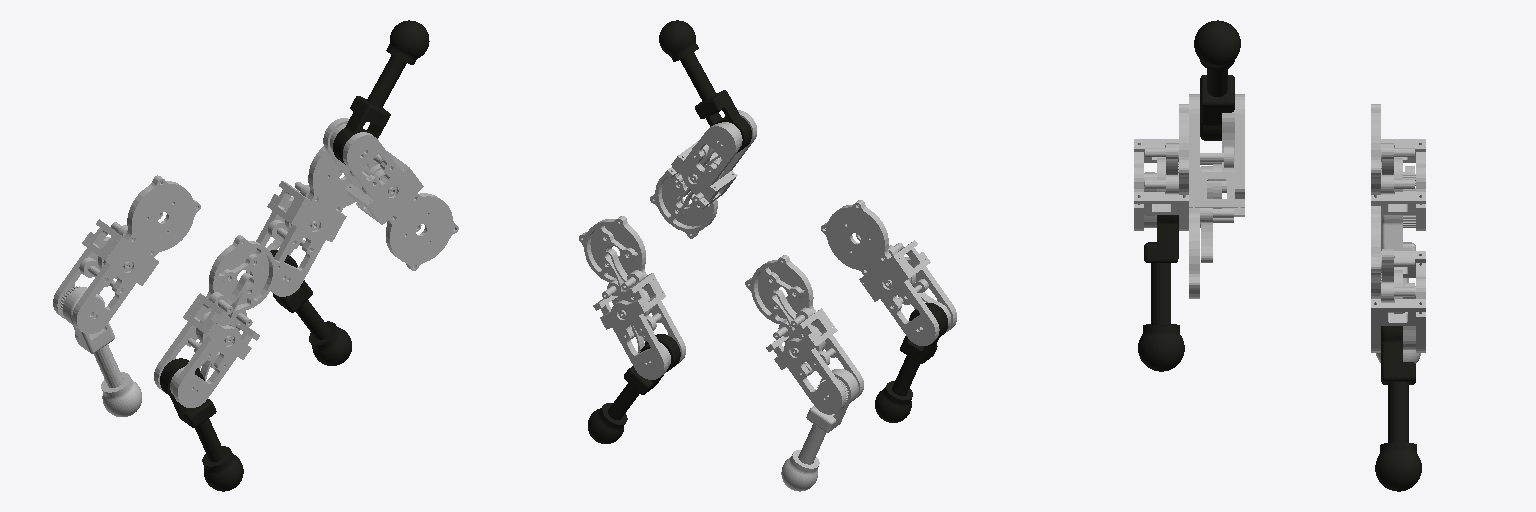
robot.urdf — TOPS CAD Assembly:
<?xml version="1.0"?>
<robot
  name="TOPS CAD Assembly">

  <link
    name="base_link">
  </link>

  <link
    name="chassis_link">
    <inertial>
      <origin
        xyz="-0.00674549715847858 0.000296696547606025 0.0118055648692431"
        rpy="0 0 0" />
      <mass
        value="3.60222879426993" />
      <inertia
        ixx="0.00760437712740927"
        ixy="4.98591013695657E-07"
        ixz="-8.29526818648913E-05"
        iyy="0.00849789665903707"
        iyz="4.94919751383625E-06"
        izz="0.00711099585019066" />
    </inertial>
    <visual>
      <origin
        xyz="0 0 0"
        rpy="0 0 0" />
      <geometry>
        <mesh
          filename="package://SLAP_URDF/meshes/chassis_link.STL" />
      </geometry>
      <material
        name="">
        <color
          rgba="0.749019607843137 0.749019607843137 0.749019607843137 1" />
      </material>
    </visual>
    <collision>
      <origin
        xyz="0 0 0"
        rpy="0 0 0" />
      <geometry>
        <mesh
          filename="package://SLAP_URDF/meshes/chassis_link.STL" />
      </geometry>
    </collision>
  </link>

  <joint
    name="chassis_joint"
    type="fixed">
    <origin
      xyz="0 0 0" />
    <parent
      link="base_link" />
    <child
      link="chassis_link" />
  </joint>

  <link
    name="FL_HAA">
    <inertial>
      <origin
        xyz="0.0201938080620578 -0.000202781199679098 0.0516999280553676"
        rpy="0 0 0" />
      <mass
        value="0.558028762012573" />
      <inertia
        ixx="0.000868750855220859"
        ixy="2.71411955514796E-06"
        ixz="4.44157847849211E-06"
        iyy="0.000521076728499913"
        iyz="3.9654407048096E-07"
        izz="0.000479684513061133" />
    </inertial>
    <visual>
      <origin
        xyz="0 0 0"
        rpy="0 0 0" />
      <geometry>
        <mesh
          filename="package://SLAP_URDF/meshes/FL_HAA.STL" />
      </geometry>
      <material
        name="">
        <color
          rgba="0.749019607843137 0.749019607843137 0.749019607843137 1" />
      </material>
    </visual>
    <collision>
      <origin
        xyz="0 0 0"
        rpy="0 0 0" />
      <geometry>
        <mesh
          filename="package://SLAP_URDF/meshes/FL_HAA.STL" />
      </geometry>
    </collision>
  </link>
  <joint
    name="FL_HAA"
    type="continuous">
    <origin
      xyz="0.105 0.055 -0.0027522"
      rpy="1.5708 0 1.5708" />
    <parent
      link="chassis_link" />
    <child
      link="FL_HAA" />
    <axis
      xyz="0 0 -1" />
  </joint>
  <link
    name="FL_HFE">
    <inertial>
      <origin
        xyz="0.0323002141681416 -0.0483873635074022 0.0417838533184272"
        rpy="0 0 0" />
      <mass
        value="0.699541342151953" />
      <inertia
        ixx="0.000662292768335328"
        ixy="0.00017233052878227"
        ixz="-1.69300773093004E-05"
        iyy="0.000517040257502136"
        iyz="2.54959596627936E-05"
        izz="0.00105901664416852" />
    </inertial>
    <visual>
      <origin
        xyz="0 0 0"
        rpy="0 0 0" />
      <geometry>
        <mesh
          filename="package://SLAP_URDF/meshes/FL_HFE.STL" />
      </geometry>
      <material
        name="">
        <color
          rgba="0.749019607843137 0.749019607843137 0.749019607843137 1" />
      </material>
    </visual>
    <collision>
      <origin
        xyz="0 0 0"
        rpy="0 0 0" />
      <geometry>
        <mesh
          filename="package://SLAP_URDF/meshes/FL_HFE.STL" />
      </geometry>
    </collision>
  </link>
  <joint
    name="FL_HFE"
    type="continuous">
    <origin
      xyz="0.0610000000017198 0 0.0570000000001782"
      rpy="0 1.5707963267949 0" />
    <parent
      link="FL_HAA" />
    <child
      link="FL_HFE" />
    <axis
      xyz="0 0 1" />
  </joint>
  <link
    name="FL_KFE">
    <inertial>
      <origin
        xyz="-0.0483283195314868 -0.0728576835275946 -0.0231350489995653"
        rpy="0 0 0" />
      <mass
        value="0.258860763849158" />
      <inertia
        ixx="0.000161084439801444"
        ixy="-4.16534814038773E-05"
        ixz="1.37164645450375E-06"
        iyy="0.000125901435666665"
        iyz="2.06898564608703E-06"
        izz="0.000200160004517402" />
    </inertial>
    <visual>
      <origin
        xyz="0 0 0"
        rpy="0 0 0" />
      <geometry>
        <mesh
          filename="package://SLAP_URDF/meshes/FL_KFE.STL" />
      </geometry>
      <material
        name="">
        <color
          rgba="0.149019607843137 0.152941176470588 0.133333333333333 1" />
      </material>
    </visual>
    <collision>
      <origin
        xyz="0 0 0"
        rpy="0 0 0" />
      <geometry>
        <mesh
          filename="package://SLAP_URDF/meshes/FL_KFE.STL" />
      </geometry>
    </collision>
  </link>
  <joint
    name="FL_KFE"
    type="continuous">
    <origin
      xyz="0.0994987437100913 -0.150000000000391 0.057999999999998"
      rpy="0 0 0" />
    <parent
      link="FL_HFE" />
    <child
      link="FL_KFE" />
    <axis
      xyz="0 0 1" />
  </joint>
  <link
    name="FR_HAA">
    <inertial>
      <origin
        xyz="-0.020193808980872 -0.000114419210248289 0.0547113997889126"
        rpy="0 0 0" />
      <mass
        value="0.558028756397928" />
      <inertia
        ixx="0.000868750856863444"
        ixy="-1.14512072864362E-06"
        ixz="-4.41728118087123E-06"
        iyy="0.000521076705816331"
        iyz="4.01932778696653E-07"
        izz="0.00047968455600824" />
    </inertial>
    <visual>
      <origin
        xyz="0 0 0"
        rpy="0 0 0" />
      <geometry>
        <mesh
          filename="package://SLAP_URDF/meshes/FR_HAA.STL" />
      </geometry>
      <material
        name="">
        <color
          rgba="0.749019607843137 0.749019607843137 0.749019607843137 1" />
      </material>
    </visual>
    <collision>
      <origin
        xyz="0 0 0"
        rpy="0 0 0" />
      <geometry>
        <mesh
          filename="package://SLAP_URDF/meshes/FR_HAA.STL" />
      </geometry>
    </collision>
  </link>
  <joint
    name="FR_HAA"
    type="continuous">
    <origin
      xyz="0.102 -0.055 -0.0027522"
      rpy="1.5708 0 1.5708" />
    <parent
      link="chassis_link" />
    <child
      link="FR_HAA" />
    <axis
      xyz="0 0 -1" />
  </joint>
  <link
    name="FR_HFE">
    <inertial>
      <origin
        xyz="-0.0320173416567354 -0.048575000118241 0.0417838532996047"
        rpy="0 0 0" />
      <mass
        value="0.69954134059435" />
      <inertia
        ixx="0.00066249171610247"
        ixy="-0.000172246549082199"
        ixz="1.69051176993707E-05"
        iyy="0.000516841306750232"
        iyz="2.55125157580018E-05"
        izz="0.00105901664140058" />
    </inertial>
    <visual>
      <origin
        xyz="0 0 0"
        rpy="0 0 0" />
      <geometry>
        <mesh
          filename="package://SLAP_URDF/meshes/FR_HFE.STL" />
      </geometry>
      <material
        name="">
        <color
          rgba="0.749019607843137 0.749019607843137 0.749019607843137 1" />
      </material>
    </visual>
    <collision>
      <origin
        xyz="0 0 0"
        rpy="0 0 0" />
      <geometry>
        <mesh
          filename="package://SLAP_URDF/meshes/FR_HFE.STL" />
      </geometry>
    </collision>
  </link>
  <joint
    name="FR_HFE"
    type="continuous">
    <origin
      xyz="-0.0610000000099869 0 0.0599999999999569"
      rpy="3.14159265358979 -1.5707963267949 0" />
    <parent
      link="FR_HAA" />
    <child
      link="FR_HFE" />
    <axis
      xyz="0 0 -1" />
  </joint>
  <link
    name="FR_KFE">
    <inertial>
      <origin
        xyz="0.0483283200939458 -0.0728576831532276 -0.02313504895965"
        rpy="0 0 0" />
      <mass
        value="0.258860763855111" />
      <inertia
        ixx="0.000161084150513816"
        ixy="4.16532906135806E-05"
        ixz="-1.37167261387802E-06"
        iyy="0.000125901309820202"
        iyz="2.06896818580989E-06"
        izz="0.000200160419628103" />
    </inertial>
    <visual>
      <origin
        xyz="0 0 0"
        rpy="0 0 0" />
      <geometry>
        <mesh
          filename="package://SLAP_URDF/meshes/FR_KFE.STL" />
      </geometry>
      <material
        name="">
        <color
          rgba="0.149019607843137 0.152941176470588 0.133333333333333 1" />
      </material>
    </visual>
    <collision>
      <origin
        xyz="0 0 0"
        rpy="0 0 0" />
      <geometry>
        <mesh
          filename="package://SLAP_URDF/meshes/FR_KFE.STL" />
      </geometry>
    </collision>
  </link>
  <joint
    name="FR_KFE"
    type="continuous">
    <origin
      xyz="-0.0994987437140164 -0.149999999997773 0.0579999999999998"
      rpy="0 0 0" />
    <parent
      link="FR_HFE" />
    <child
      link="FR_KFE" />
    <axis
      xyz="0 0 1" />
  </joint>
  <link
    name="BL_HAA">
    <inertial>
      <origin
        xyz="0.020193809127106 -0.000114419289587693 -0.05571139976583"
        rpy="0 0 0" />
      <mass
        value="0.558028758974316" />
      <inertia
        ixx="0.000868750857443138"
        ixy="1.14512075728258E-06"
        ixz="-4.41728116391802E-06"
        iyy="0.000521076706213277"
        iyz="-4.01932579553485E-07"
        izz="0.000479684556214402" />
    </inertial>
    <visual>
      <origin
        xyz="0 0 0"
        rpy="0 0 0" />
      <geometry>
        <mesh
          filename="package://SLAP_URDF/meshes/BL_HAA.STL" />
      </geometry>
      <material
        name="">
        <color
          rgba="0.749019607843137 0.749019607843137 0.749019607843137 1" />
      </material>
    </visual>
    <collision>
      <origin
        xyz="0 0 0"
        rpy="0 0 0" />
      <geometry>
        <mesh
          filename="package://SLAP_URDF/meshes/BL_HAA.STL" />
      </geometry>
    </collision>
  </link>
  <joint
    name="BL_HAA"
    type="continuous">
    <origin
      xyz="-0.09065 0.055 -0.0027522"
      rpy="1.5708 0 1.5708" />
    <parent
      link="chassis_link" />
    <child
      link="BL_HAA" />
    <axis
      xyz="0 0 1" />
  </joint>
  <link
    name="BL_HFE">
    <inertial>
      <origin
        xyz="0.0377204534146875 -0.0419198109655569 0.0286205156452966"
        rpy="0 0 0" />
      <mass
        value="0.685905480563983" />
      <inertia
        ixx="0.000597724032888476"
        ixy="0.000177152454188708"
        ixz="-2.04139517751288E-05"
        iyy="0.000558397568609842"
        iyz="2.28022456919397E-05"
        izz="0.00103638702101733" />
    </inertial>
    <visual>
      <origin
        xyz="0 0 0"
        rpy="0 0 0" />
      <geometry>
        <mesh
          filename="package://SLAP_URDF/meshes/BL_HFE.STL" />
      </geometry>
      <material
        name="">
        <color
          rgba="0.749019607843137 0.749019607843137 0.749019607843137 1" />
      </material>
    </visual>
    <collision>
      <origin
        xyz="0 0 0"
        rpy="0 0 0" />
      <geometry>
        <mesh
          filename="package://SLAP_URDF/meshes/BL_HFE.STL" />
      </geometry>
    </collision>
  </link>
  <joint
    name="BL_HFE"
    type="continuous">
    <origin
      xyz="0.0740000000029285 0 -0.0610000000009706"
      rpy="0 1.5707963267949 0" />
    <parent
      link="BL_HAA" />
    <child
      link="BL_HFE" />
    <axis
      xyz="0 0 1" />
  </joint>
  <link
    name="BL_KFE">
    <inertial>
      <origin
        xyz="0.0339985105303406 -0.0805478946153706 -0.0208649512575457"
        rpy="0 0 0" />
      <mass
        value="0.258860654892997" />
      <inertia
        ixx="0.000175040591744592"
        ixy="3.23926264597116E-05"
        ixz="9.65910628566331E-07"
        iyy="0.000111945209517278"
        iyz="-2.28672779047605E-06"
        izz="0.000200160013140518" />
    </inertial>
    <visual>
      <origin
        xyz="0 0 0"
        rpy="0 0 0" />
      <geometry>
        <mesh
          filename="package://SLAP_URDF/meshes/BL_KFE.STL" />
      </geometry>
      <material
        name="">
        <color
          rgba="0.749019607843137 0.749019607843137 0.749019607843137 1" />
      </material>
    </visual>
    <collision>
      <origin
        xyz="0 0 0"
        rpy="0 0 0" />
      <geometry>
        <mesh
          filename="package://SLAP_URDF/meshes/BL_KFE.STL" />
      </geometry>
    </collision>
  </link>
  <joint
    name="BL_KFE"
    type="continuous">
    <origin
      xyz="0.11999644374382 -0.134167259376948 0.000999999997025408"
      rpy="3.14159265354861 0 -3.14159265358979" />
    <parent
      link="BL_HFE" />
    <child
      link="BL_KFE" />
    <axis
      xyz="0 0 -1" />
  </joint>
  <link
    name="BR_HAA">
    <inertial>
      <origin
        xyz="0.0201938080040964 -0.000202781244257938 0.0516999280281645"
        rpy="0 0 0" />
      <mass
        value="0.558028761170187" />
      <inertia
        ixx="0.000868750855029488"
        ixy="2.71411952197672E-06"
        ixz="4.44157857253795E-06"
        iyy="0.00052107672841309"
        iyz="3.96543869299643E-07"
        izz="0.000479684512932597" />
    </inertial>
    <visual>
      <origin
        xyz="0 0 0"
        rpy="0 0 0" />
      <geometry>
        <mesh
          filename="package://SLAP_URDF/meshes/BR_HAA.STL" />
      </geometry>
      <material
        name="">
        <color
          rgba="0.749019607843137 0.749019607843137 0.749019607843137 1" />
      </material>
    </visual>
    <collision>
      <origin
        xyz="0 0 0"
        rpy="0 0 0" />
      <geometry>
        <mesh
          filename="package://SLAP_URDF/meshes/BR_HAA.STL" />
      </geometry>
    </collision>
  </link>
  <joint
    name="BR_HAA"
    type="continuous">
    <origin
      xyz="-0.0946500000047895 -0.0549999999896037 -0.00275216928188031"
      rpy="1.5707963267949 0 -1.5707963267949" />
    <parent
      link="chassis_link" />
    <child
      link="BR_HAA" />
    <axis
      xyz="0 0 -1" />
  </joint>
  <link
    name="BR_HFE">
    <inertial>
      <origin
        xyz="-0.0386572860933837 -0.0434770589126011 0.0417838536131456"
        rpy="0 0 0" />
      <mass
        value="0.699541365526004" />
      <inertia
        ixx="0.000610562454617418"
        ixy="-0.000185837968968479"
        ixz="2.03916269888197E-05"
        iyy="0.000568770604536076"
        iyz="2.28222123172462E-05"
        izz="0.00105901668123021" />
    </inertial>
    <visual>
      <origin
        xyz="0 0 0"
        rpy="0 0 0" />
      <geometry>
        <mesh
          filename="package://SLAP_URDF/meshes/BR_HFE.STL" />
      </geometry>
      <material
        name="">
        <color
          rgba="0.749019607843137 0.749019607843137 0.749019607843137 1" />
      </material>
    </visual>
    <collision>
      <origin
        xyz="0 0 0"
        rpy="0 0 0" />
      <geometry>
        <mesh
          filename="package://SLAP_URDF/meshes/BR_HFE.STL" />
      </geometry>
    </collision>
  </link>
  <joint
    name="BR_HFE"
    type="continuous">
    <origin
      xyz="0.0609999999942884 0 0.057000000006366"
      rpy="0 1.5707963267949 0" />
    <parent
      link="BR_HAA" />
    <child
      link="BR_HFE" />
    <axis
      xyz="0 0 1" />
  </joint>
  <link
    name="BR_KFE">
    <inertial>
      <origin
        xyz="0.0339985106691494 -0.0805478945652445 -0.023135048718487"
        rpy="0 0 0" />
      <mass
        value="0.258860654851475" />
      <inertia
        ixx="0.000175039958546878"
        ixy="3.23923609229721E-05"
        ixz="-9.65548410087239E-07"
        iyy="0.000111945098136343"
        iyz="2.28688097413133E-06"
        izz="0.000200160757627372" />
    </inertial>
    <visual>
      <origin
        xyz="0 0 0"
        rpy="0 0 0" />
      <geometry>
        <mesh
          filename="package://SLAP_URDF/meshes/BR_KFE.STL" />
      </geometry>
      <material
        name="">
        <color
          rgba="0.149019607843137 0.152941176470588 0.133333333333333 1" />
      </material>
    </visual>
    <collision>
      <origin
        xyz="0 0 0"
        rpy="0 0 0" />
      <geometry>
        <mesh
          filename="package://SLAP_URDF/meshes/BR_KFE.STL" />
      </geometry>
    </collision>
  </link>
  <joint
    name="BR_KFE"
    type="continuous">
    <origin
      xyz="-0.119996443756263 -0.134167259371207 0.0579999998523434"
      rpy="0 0 0" />
    <parent
      link="BR_HFE" />
    <child
      link="BR_KFE" />
    <axis
      xyz="0 0 1" />
  </joint>
</robot>

--- Facts derived from the render (not from the file) ---
3 views of the same robot in one strip: view 1: azimuth 30°, elevation 25°; view 2: azimuth 150°, elevation 25°; view 3: azimuth 270°, elevation 25° (orthographic).
Model TOPS CAD Assembly with 14 links and 13 joints (12 continuous, 1 fixed), rooted at base_link, posed all joints at 0.
Visible links, largest first — view 1: BR_HFE, BL_HFE, FR_HFE, FL_HFE, FR_KFE, BL_KFE, BR_KFE, FL_KFE; view 2: FL_HFE, BR_HFE, BL_HFE, FR_HFE, FR_KFE, BL_KFE, BR_KFE, FL_KFE; view 3: FR_HFE, FL_HFE, BR_HFE, FL_KFE, BL_HFE, BR_KFE, FR_KFE, BL_KFE.
Boxes of the visible links, box(x1,y1,x2,y2) form: BR_HFE: box(154, 235, 282, 407); BL_HFE: box(53, 175, 200, 333); FR_HFE: box(323, 118, 458, 270); FL_HFE: box(256, 146, 355, 296); FR_KFE: box(333, 20, 429, 164); BL_KFE: box(60, 286, 141, 416); BR_KFE: box(160, 358, 243, 491); FL_KFE: box(270, 250, 351, 365); FL_HFE: box(579, 216, 685, 379); BR_HFE: box(821, 200, 956, 345); BL_HFE: box(745, 255, 863, 414); FR_HFE: box(650, 110, 756, 238); FR_KFE: box(659, 20, 751, 152); BL_KFE: box(781, 369, 858, 491); BR_KFE: box(875, 303, 947, 422); FL_KFE: box(588, 334, 680, 443); FR_HFE: box(1189, 94, 1244, 298); FL_HFE: box(1371, 206, 1425, 352); BR_HFE: box(1134, 104, 1188, 230); FL_KFE: box(1375, 326, 1421, 491); BL_HFE: box(1371, 104, 1425, 230); BR_KFE: box(1138, 215, 1184, 371); FR_KFE: box(1194, 20, 1240, 140); BL_KFE: box(1376, 188, 1420, 363).
Bounding box of the posed robot: 0.5284 × 0.374 × 0.66 m (x, y, z).
Meshes: 13 distinct files referenced, 8 mesh visuals loaded (8 binary STL); not drawn: 5 (reference not matched to a file when rendering).
